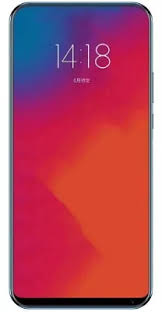lenovo: (4, 1, 156, 309)
